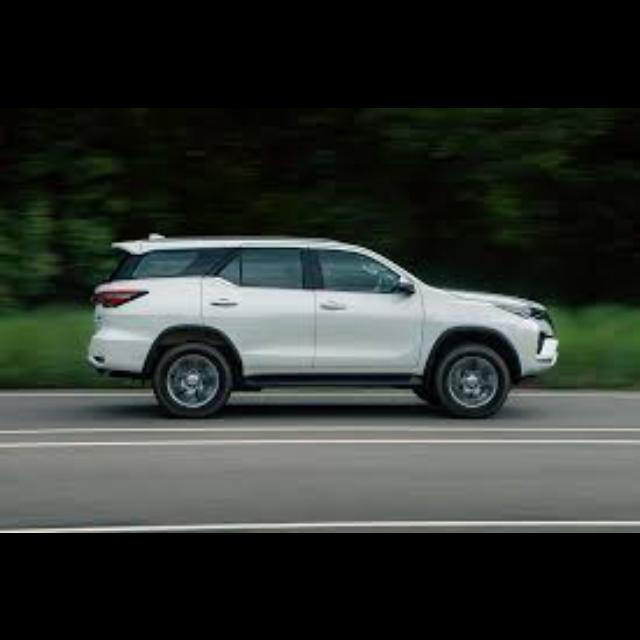vehicles: (77, 230, 566, 428)
